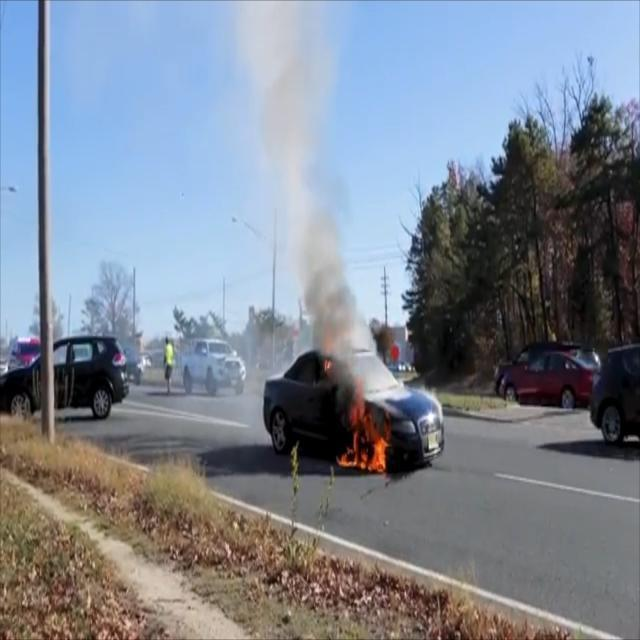fire: (321, 334, 386, 474)
